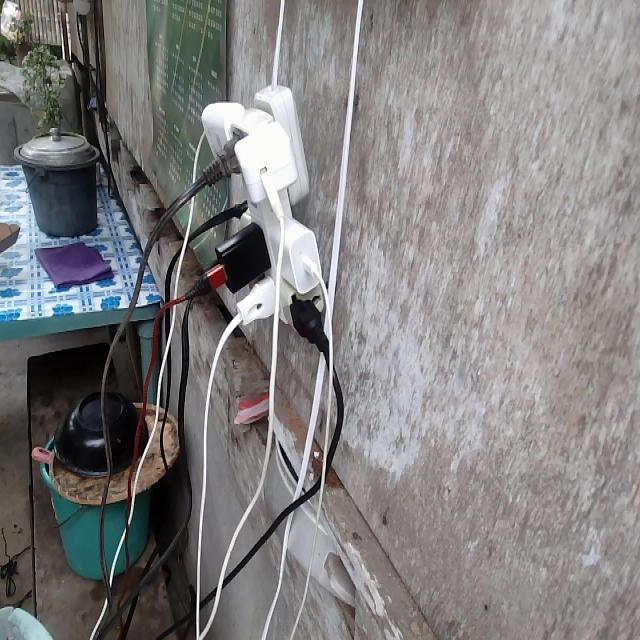-: (197, 77, 322, 336)
